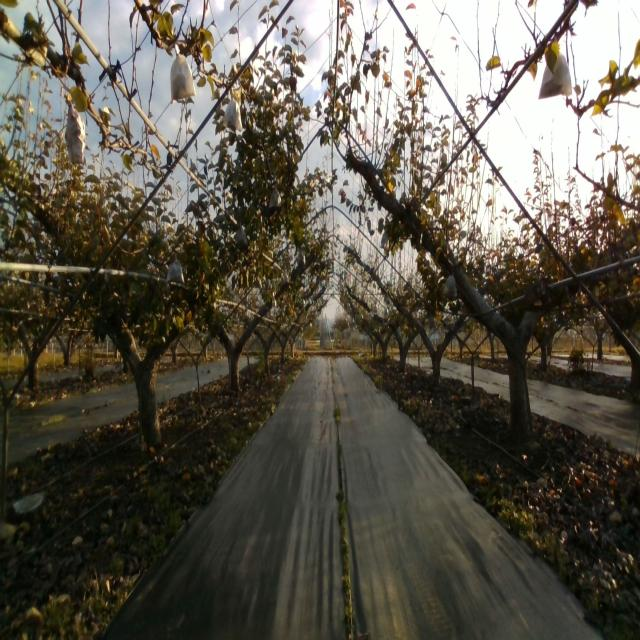pearbags: (538, 52, 572, 99), (170, 43, 195, 104), (64, 99, 87, 164), (222, 90, 242, 132), (166, 256, 186, 284), (234, 220, 248, 248), (443, 272, 457, 298), (269, 182, 281, 208), (380, 228, 389, 251)
